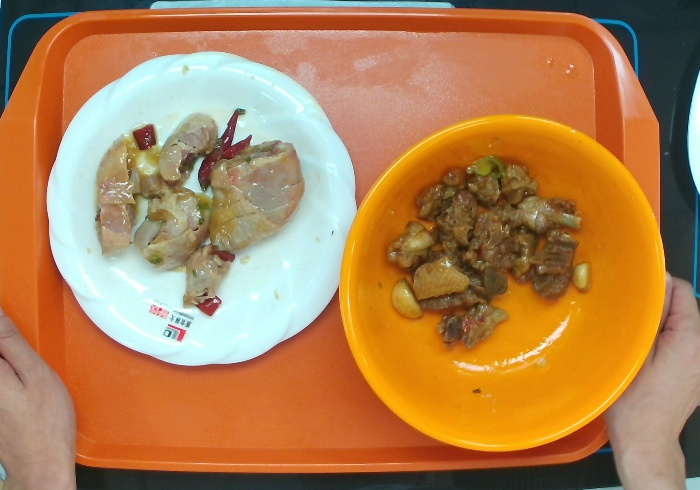ZNLD-Hua_Bian_Wan: (46, 55, 360, 369)
ZNLD-Ju_Se_Tang_Wan: (338, 114, 668, 454)
